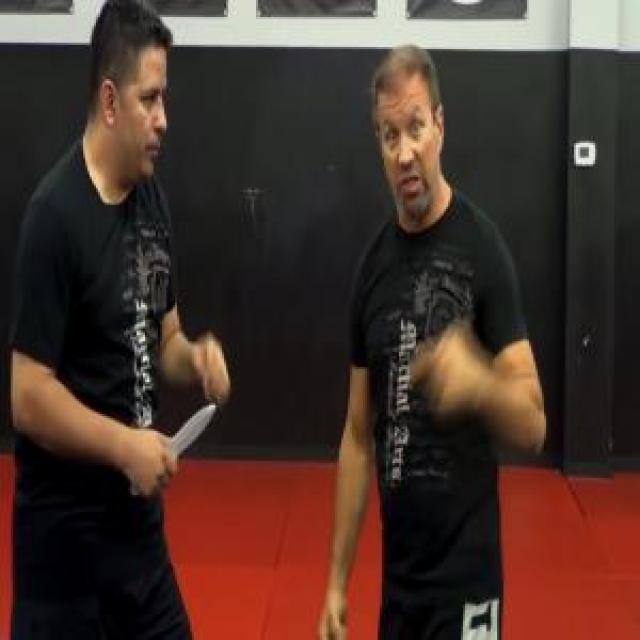knife: (126, 397, 219, 501)
